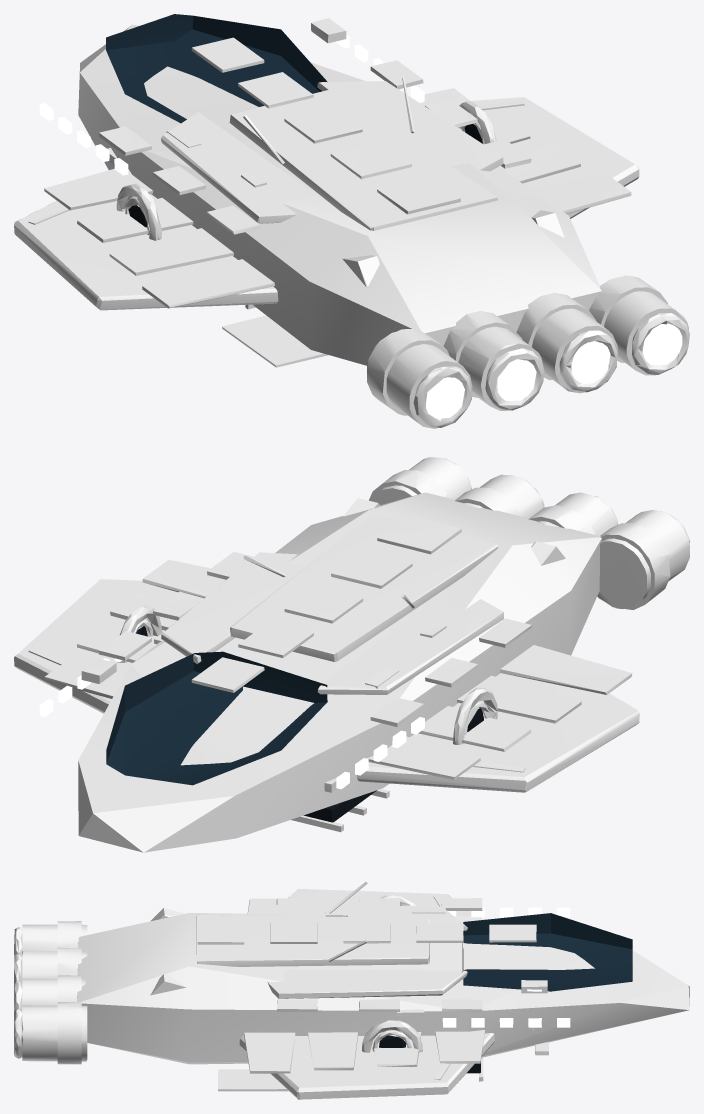
File: aur-wayfarer-shuttle-far.glb
The picture shows the model from 3 angles, top to bottom: view 1: azimuth 30°, elevation 25°; view 2: azimuth 150°, elevation 25°; view 3: azimuth 270°, elevation 25°; orthographic projection. The views are drawn at different scales.
Visible parts, largest first — view 1: Dorsal_Access_Plate_01, Pressure_Hull, Airlock_L, Airlock_L_Inner, Cockpit_Canopy, Cabin_Window_L_01; view 2: Pressure_Hull, Dorsal_Access_Plate_01, Airlock_L, Airlock_L_Inner, Cockpit_Canopy, Cabin_Window_L_01, Airlock_L_Seal; view 3: Pressure_Hull, Dorsal_Access_Plate_01, Airlock_L, Airlock_L_Inner, Cockpit_Canopy, Cabin_Window_L_01, Airlock_L_Seal.
Boxes of the visible parts, x1=… form: Dorsal_Access_Plate_01: x1=14, y1=37, x2=689, y2=427; Pressure_Hull: x1=78, y1=24, x2=601, y2=365; Airlock_L: x1=28, y1=88, x2=667, y2=415; Airlock_L_Inner: x1=77, y1=18, x2=688, y2=428; Cockpit_Canopy: x1=106, y1=14, x2=327, y2=123; Cabin_Window_L_01: x1=39, y1=35, x2=682, y2=418; Pressure_Hull: x1=78, y1=492, x2=601, y2=852; Dorsal_Access_Plate_01: x1=14, y1=458, x2=689, y2=792; Airlock_L: x1=28, y1=470, x2=670, y2=832; Airlock_L_Inner: x1=77, y1=457, x2=689, y2=751; Cockpit_Canopy: x1=106, y1=651, x2=327, y2=785; Cabin_Window_L_01: x1=39, y1=658, x2=424, y2=789; Airlock_L_Seal: x1=136, y1=626, x2=483, y2=822; Pressure_Hull: x1=77, y1=913, x2=689, y2=1064; Dorsal_Access_Plate_01: x1=14, y1=888, x2=536, y2=1099; Airlock_L: x1=57, y1=895, x2=548, y2=1091; Airlock_L_Inner: x1=22, y1=881, x2=547, y2=1073; Cockpit_Canopy: x1=462, y1=913, x2=632, y2=991; Cabin_Window_L_01: x1=442, y1=907, x2=570, y2=1027; Airlock_L_Seal: x1=379, y1=1035, x2=480, y2=1073.
Size of the model in its own units: 26.35 by 8.28 by 37.29.
